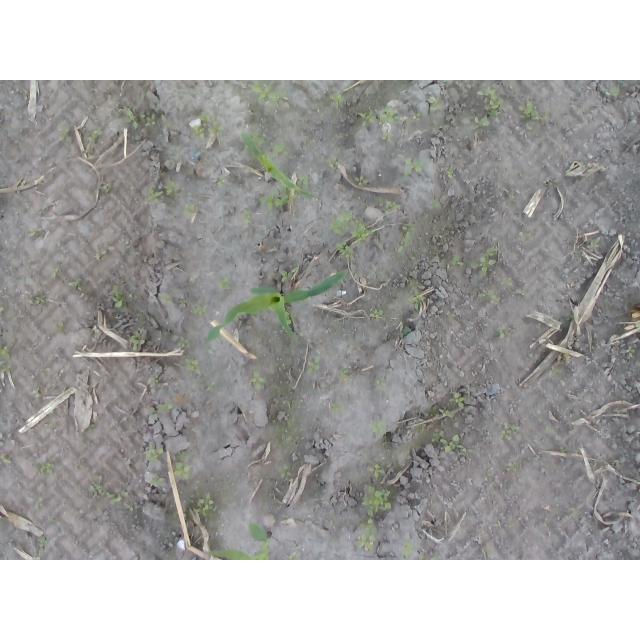Maize: (207, 266, 350, 343), (240, 132, 317, 200), (206, 524, 272, 561)
Weeds: (359, 106, 402, 142), (88, 476, 130, 505), (430, 431, 475, 457), (259, 184, 298, 212), (249, 81, 288, 108), (361, 485, 392, 517), (110, 279, 139, 312), (519, 101, 549, 130), (476, 87, 504, 118), (471, 247, 497, 278), (193, 114, 225, 138), (357, 518, 378, 551), (351, 218, 374, 247), (194, 493, 219, 519), (327, 210, 353, 235), (396, 220, 416, 252), (172, 452, 193, 481), (156, 289, 189, 307), (408, 279, 426, 309), (116, 107, 139, 129), (375, 197, 401, 215), (270, 266, 299, 282), (143, 444, 164, 465), (128, 328, 146, 352), (151, 403, 174, 420), (402, 157, 422, 176), (337, 240, 356, 260), (249, 371, 268, 391), (499, 421, 518, 440), (554, 352, 571, 373), (448, 392, 468, 409), (477, 289, 499, 304), (184, 358, 202, 375), (276, 464, 293, 481), (145, 188, 163, 204), (38, 461, 57, 476), (189, 302, 209, 316), (470, 117, 490, 131), (428, 95, 445, 111), (140, 112, 157, 128), (272, 141, 288, 158), (214, 276, 232, 291), (307, 355, 322, 373), (329, 93, 345, 109), (86, 126, 102, 142), (401, 540, 416, 557), (368, 464, 385, 479), (27, 495, 45, 509), (164, 182, 180, 197), (250, 131, 267, 145), (370, 421, 387, 435), (149, 473, 166, 487), (68, 279, 84, 292), (284, 311, 297, 326), (368, 309, 384, 321), (331, 400, 345, 413), (59, 128, 72, 141), (338, 368, 351, 381), (398, 326, 412, 338), (354, 175, 369, 186), (439, 407, 454, 418), (604, 87, 620, 97), (326, 156, 339, 168), (451, 257, 465, 268), (0, 345, 10, 360), (242, 209, 252, 224), (28, 228, 44, 237), (183, 204, 195, 216), (149, 374, 161, 386), (0, 452, 12, 464), (376, 379, 389, 390), (506, 461, 519, 472), (495, 325, 505, 339), (0, 362, 12, 373), (176, 337, 188, 348), (519, 231, 532, 241), (299, 174, 309, 187), (49, 267, 62, 277), (418, 554, 438, 560), (500, 277, 513, 286), (40, 534, 49, 547), (515, 288, 529, 296), (429, 199, 440, 209), (626, 347, 636, 358), (207, 381, 218, 391), (33, 389, 44, 399), (56, 321, 64, 334), (216, 175, 226, 185), (482, 547, 492, 557), (34, 296, 46, 304), (446, 168, 454, 180), (288, 553, 301, 560), (589, 239, 599, 248), (413, 111, 422, 121), (566, 312, 575, 321), (126, 504, 135, 513), (101, 184, 111, 192), (570, 508, 578, 517), (507, 194, 515, 203), (88, 424, 97, 432), (0, 304, 4, 314), (450, 313, 456, 318), (636, 322, 640, 329)
